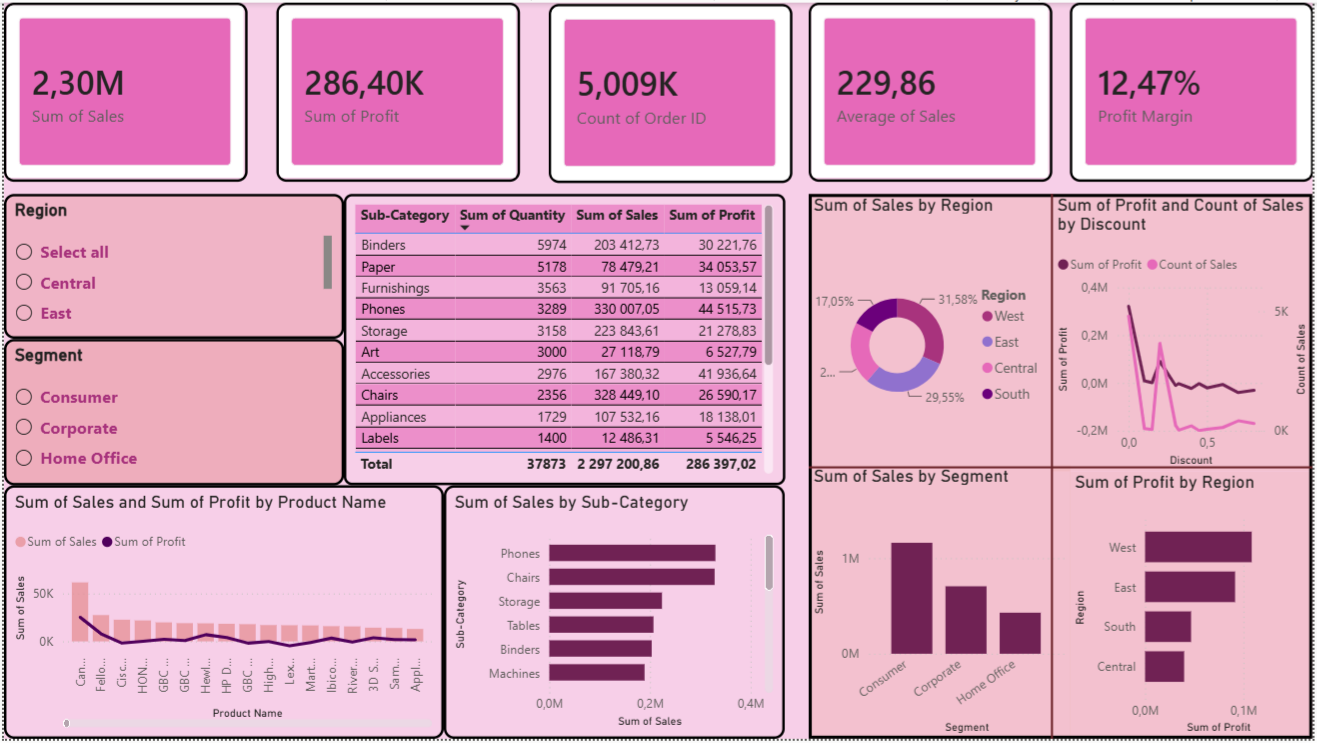

Layout of this report page (visuals, bound fields, positions):
{"tool":"powerbi","page":{"name":"Page 1","canvas":[1280,720],"ordinal":0},"visuals":[{"type":"clusteredColumnChart","fields":{"Category":["Sample - Superstore.Segment"],"Y":["Sum(Sample - Superstore.Sales)"]},"box":[787.1,452.9,255.7,267.1],"z":1},{"type":"cardVisual","fields":{"Data":["Sum(Sample - Superstore.Sales)"]},"box":[0,0,238,175],"z":2},{"type":"cardVisual","fields":{"Data":["Sum(Sample - Superstore.Profit)"]},"box":[267.1,0,238,175],"z":3},{"type":"clusteredBarChart","fields":{"Category":["Sample - Superstore.Region"],"Y":["Sum(Sample - Superstore.Profit)"]},"box":[1042.9,458.6,237.1,261.4],"z":4},{"type":"lineClusteredColumnComboChart","fields":{"Category":["Sample - Superstore.Product Name"],"Y":["Sum(Sample - Superstore.Sales)"],"Y2":["Sum(Sample - Superstore.Profit)"]},"box":[0,472,430.4,248.2],"z":6},{"type":"lineChart","fields":{"Category":["Sample - Superstore.Discount"],"Y":["Sum(Sample - Superstore.Profit)"],"Y2":["CountNonNull(Sample - Superstore.Sales)"]},"box":[1025.7,187.1,254.3,271.4],"z":7},{"type":"clusteredBarChart","fields":{"Category":["Sample - Superstore.Category"],"Y":["Sum(Sample - Superstore.Sales)"]},"box":[430.4,472,333.8,248.2],"z":8},{"type":"cardVisual","fields":{"Data":["Count(Sample - Superstore.Order ID)"]},"box":[533.2,1.2,238,175],"z":9},{"type":"cardVisual","fields":{"Data":["Avg(Sample - Superstore.Sales)"]},"box":[787.1,0,238,175],"z":10},{"type":"cardVisual","fields":{"Data":["Sample - Superstore.Profit Margin"]},"box":[1042.5,0,238,175],"z":11},{"type":"tableEx","fields":{"Values":["Sample - Superstore.Sub-Category","Sum(Sample - Superstore.Quantity)","Sum(Sample - Superstore.Sales)","Sum(Sample - Superstore.Profit)"]},"box":[332.6,187.1,431.7,284.9],"z":12},{"type":"donutChart","fields":{"Category":["Sample - Superstore.Region"],"Y":["Sum(Sample - Superstore.Sales)"]},"box":[787.5,187.1,238.5,265.4],"z":13},{"type":"listSlicer","fields":{"Values":["Sample - Superstore.Region"]},"box":[0,187.1,332.6,141.8],"z":14},{"type":"shape","box":[787.5,187.1,492.8,533.2],"z":15},{"type":"shape","box":[787.5,303.3,492.9,300],"z":16},{"type":"shape","box":[875.7,187.1,300,532.9],"z":17},{"type":"listSlicer","fields":{"Values":["Sample - Superstore.Segment"]},"box":[0,328.9,332.6,143.1],"z":18}]}

Visuals, with their boxes in screenshot pixels (x1, y1, x2, y2), scaled from the page's 1280x720 canvas onto the 1317x743 screenshot:
clusteredColumnChart - Sample - Superstore.Segment x Sum(Sample - Superstore.Sales): <bbox>810, 467, 1073, 742</bbox>
cardVisual - Sum(Sample - Superstore.Sales): <bbox>0, 0, 245, 181</bbox>
cardVisual - Sum(Sample - Superstore.Profit): <bbox>275, 0, 520, 181</bbox>
clusteredBarChart - Sample - Superstore.Region x Sum(Sample - Superstore.Profit): <bbox>1073, 473, 1316, 742</bbox>
lineClusteredColumnComboChart - Sample - Superstore.Product Name x Sum(Sample - Superstore.Sales): <bbox>0, 487, 443, 742</bbox>
lineChart - Sample - Superstore.Discount x Sum(Sample - Superstore.Profit): <bbox>1055, 193, 1316, 473</bbox>
clusteredBarChart - Sample - Superstore.Category x Sum(Sample - Superstore.Sales): <bbox>443, 487, 786, 742</bbox>
cardVisual - Count(Sample - Superstore.Order ID): <bbox>549, 1, 793, 182</bbox>
cardVisual - Avg(Sample - Superstore.Sales): <bbox>810, 0, 1055, 181</bbox>
cardVisual - Sample - Superstore.Profit Margin: <bbox>1073, 0, 1316, 181</bbox>
tableEx - Sample - Superstore.Sub-Category x Sum(Sample - Superstore.Quantity): <bbox>342, 193, 786, 487</bbox>
donutChart - Sample - Superstore.Region x Sum(Sample - Superstore.Sales): <bbox>810, 193, 1056, 467</bbox>
listSlicer - Sample - Superstore.Region: <bbox>0, 193, 342, 339</bbox>
shape: <bbox>810, 193, 1316, 742</bbox>
shape: <bbox>810, 313, 1316, 623</bbox>
shape: <bbox>901, 193, 1210, 742</bbox>
listSlicer - Sample - Superstore.Segment: <bbox>0, 339, 342, 487</bbox>
